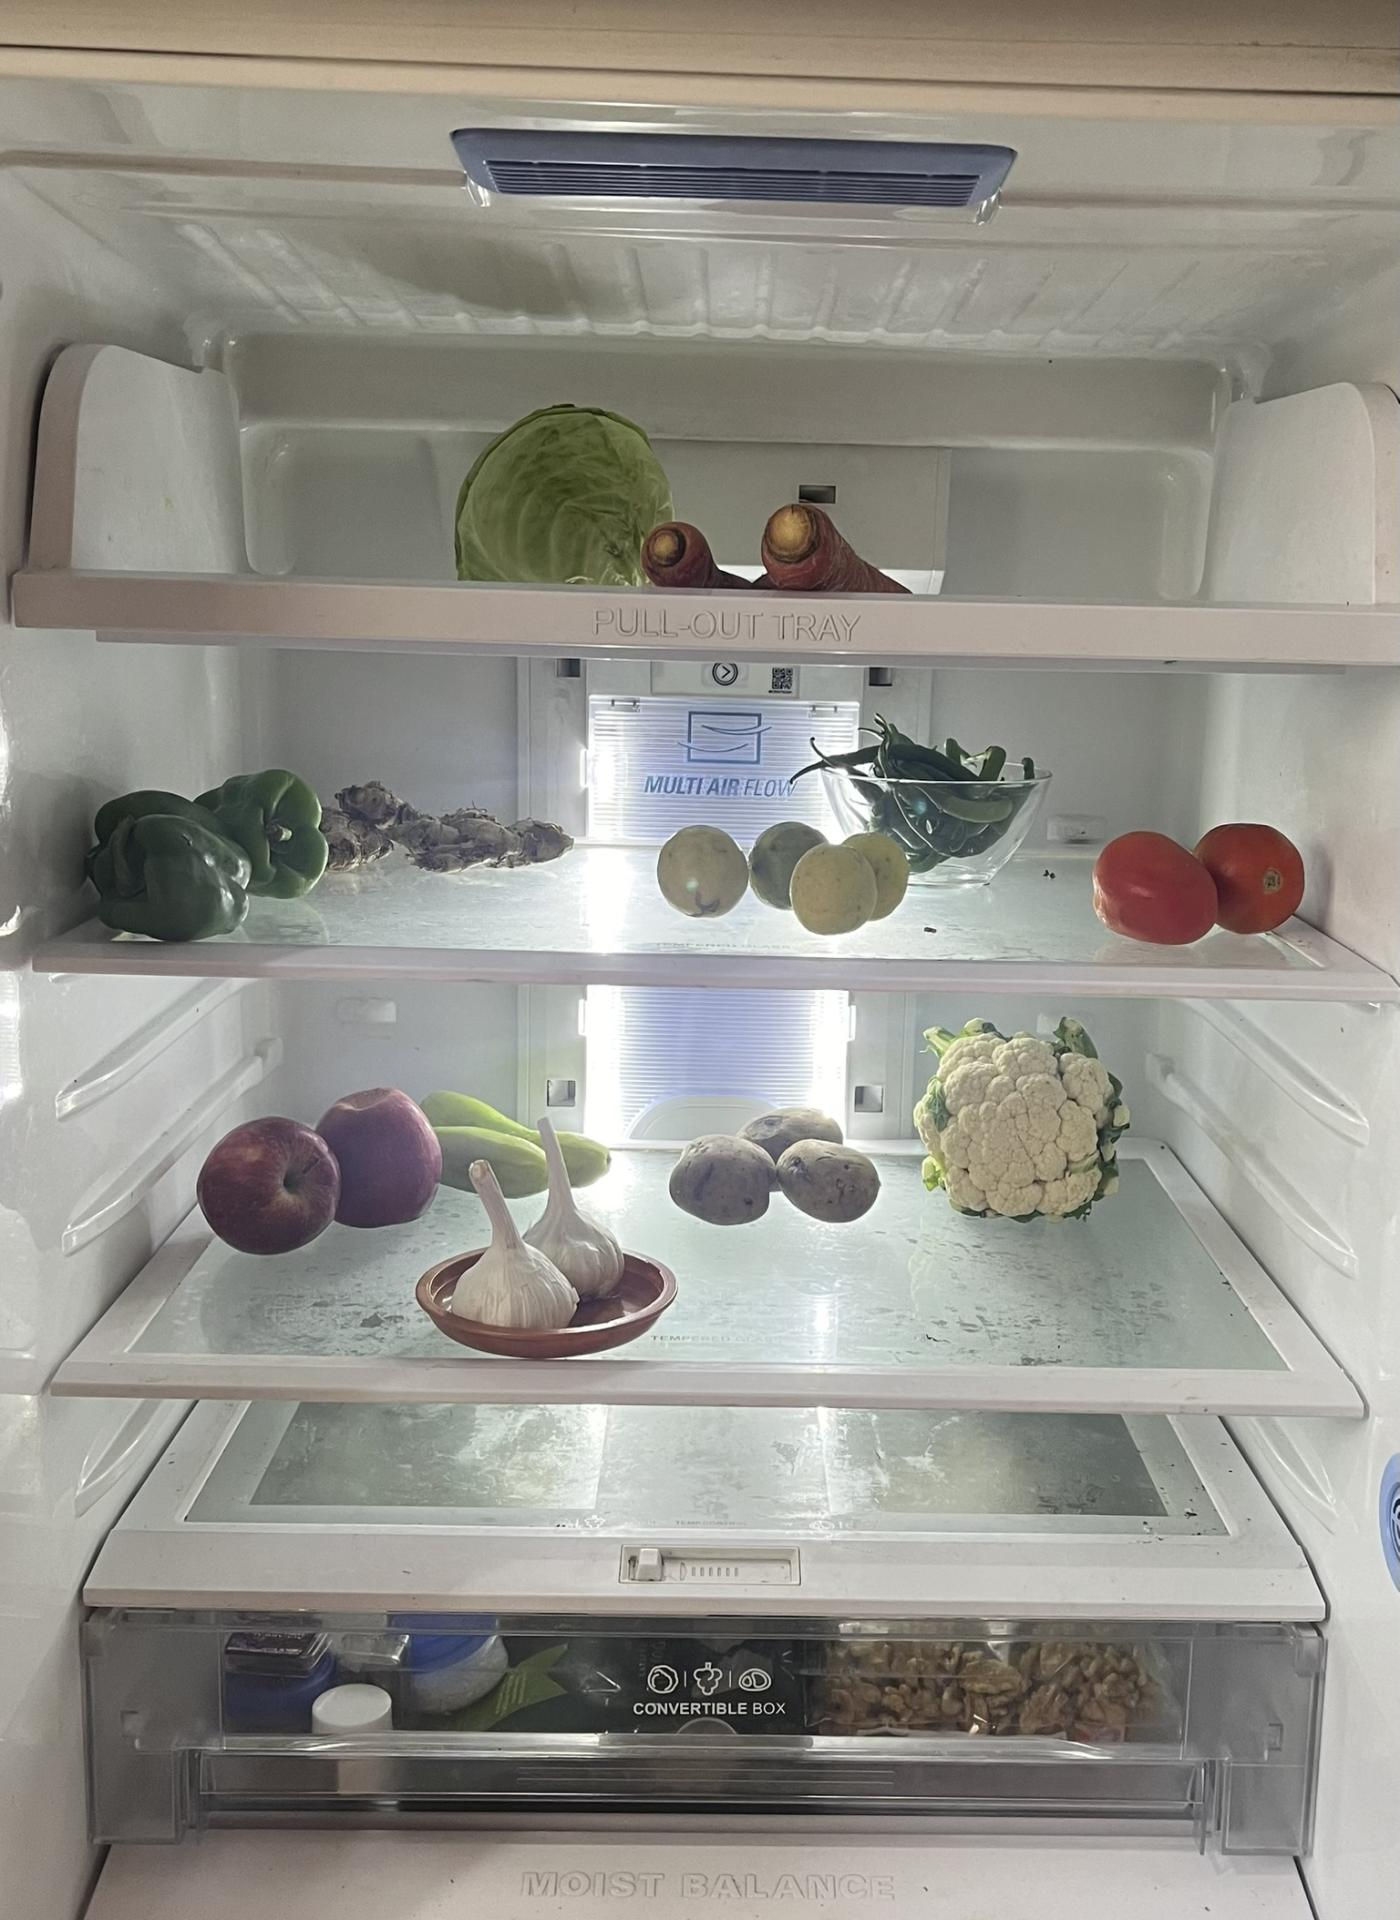apple: (203, 1076, 446, 1246)
cabbage: (455, 405, 684, 580)
capsicum: (94, 766, 325, 947)
carrots: (650, 501, 924, 595)
cauliflower: (912, 1018, 1123, 1221)
chillies: (822, 719, 1042, 865)
cucumber: (440, 1088, 610, 1188)
garlic: (426, 1149, 671, 1339)
ginger: (318, 778, 576, 884)
lemon: (655, 812, 915, 930)
potato: (678, 1106, 878, 1222)
tomato: (1088, 814, 1302, 939)
